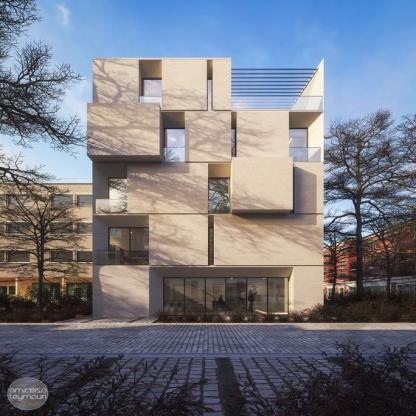Balcony: (231, 96, 322, 110), (95, 251, 149, 265), (95, 199, 127, 214), (290, 148, 321, 161), (139, 96, 162, 110), (163, 148, 185, 161)
Building Outline: (86, 57, 324, 317)
Facade: (87, 57, 325, 318), (86, 57, 324, 317)
Floor Slab: (87, 110, 324, 112), (92, 264, 324, 266), (92, 214, 324, 216)
Glass Wall: (165, 278, 288, 315)
Window: (150, 268, 294, 317), (289, 112, 322, 161), (108, 229, 149, 265), (139, 60, 162, 110), (208, 164, 231, 214), (162, 112, 185, 161), (209, 178, 230, 214), (109, 178, 127, 214), (165, 129, 185, 161), (143, 79, 162, 110), (290, 129, 307, 161), (207, 60, 213, 110), (208, 216, 214, 265), (231, 112, 237, 161), (209, 229, 213, 265), (208, 79, 212, 110), (231, 129, 234, 161)
